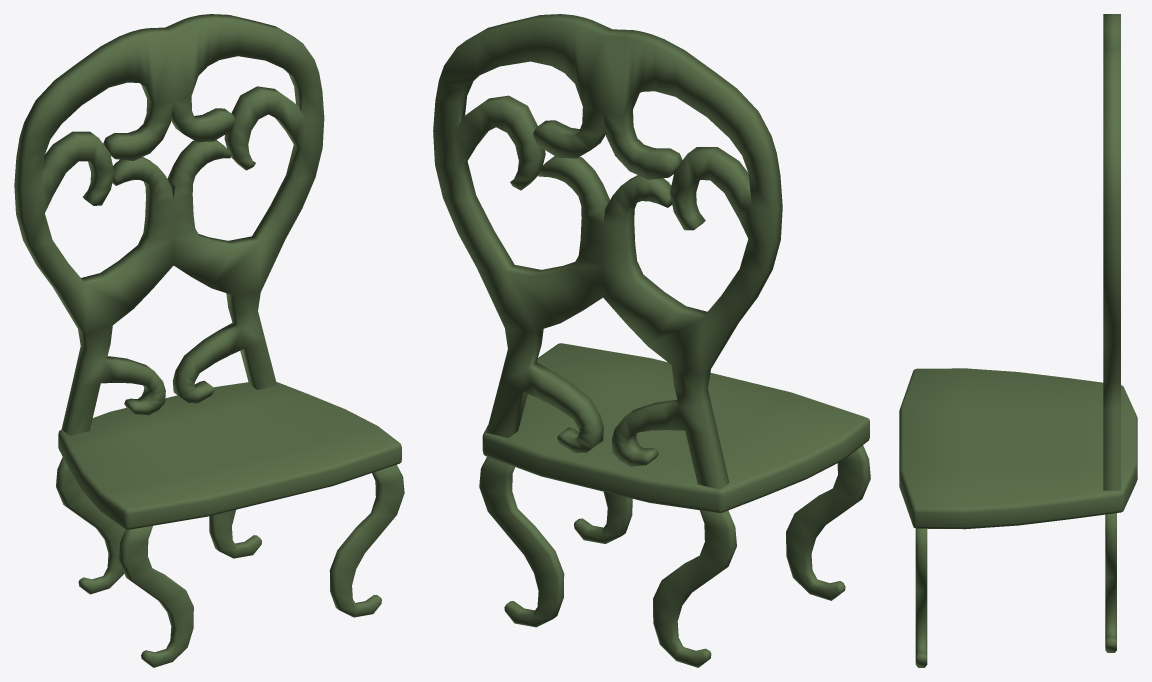
File: props_GardenChair.fbx
3 renders of one model, left to right at view 1: azimuth 30°, elevation 25°; view 2: azimuth 150°, elevation 25°; view 3: azimuth 270°, elevation 25°, orthographic. The views are drawn at different scales.
Parts seen in each view (by area): view 1: garden_chair; view 2: garden_chair; view 3: garden_chair.
Boxes of the visible parts, left/top/right/bottom form: garden_chair: left=14, top=14, right=404, bottom=667; garden_chair: left=433, top=14, right=870, bottom=667; garden_chair: left=899, top=14, right=1137, bottom=667.
Bounding box in the file's own units: 89.83 × 156 × 58.75.
